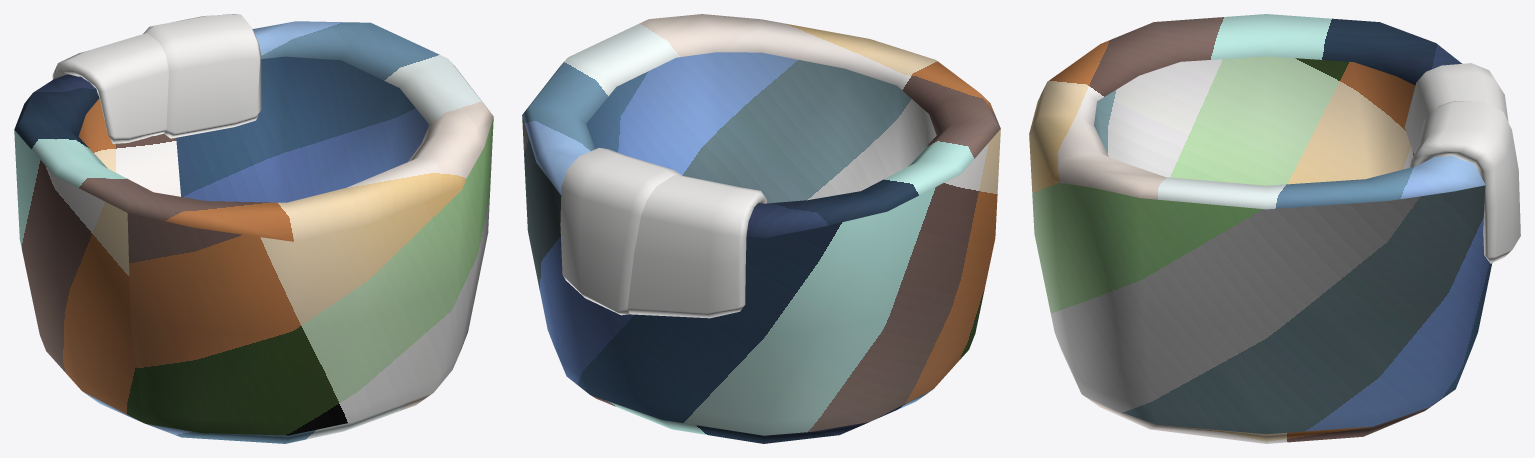
File: P_StoneBathtubSmall.glb
3 views of the same model, side by side, from view 1: azimuth 30°, elevation 25°; view 2: azimuth 150°, elevation 25°; view 3: azimuth 270°, elevation 25° (orthographic). The views are drawn at different scales.
Visible parts, largest first — view 1: P_StoneBathtubSmall; view 2: P_StoneBathtubSmall; view 3: P_StoneBathtubSmall.
Part boxes in pixels (<box>): P_StoneBathtubSmall: <box>14,14,493,443</box>; P_StoneBathtubSmall: <box>522,14,1000,443</box>; P_StoneBathtubSmall: <box>1029,14,1520,443</box>.
Size of the model in its own units: 1.03 by 0.6412 by 1.06.
Materials: 1 (1 with a texture image).
